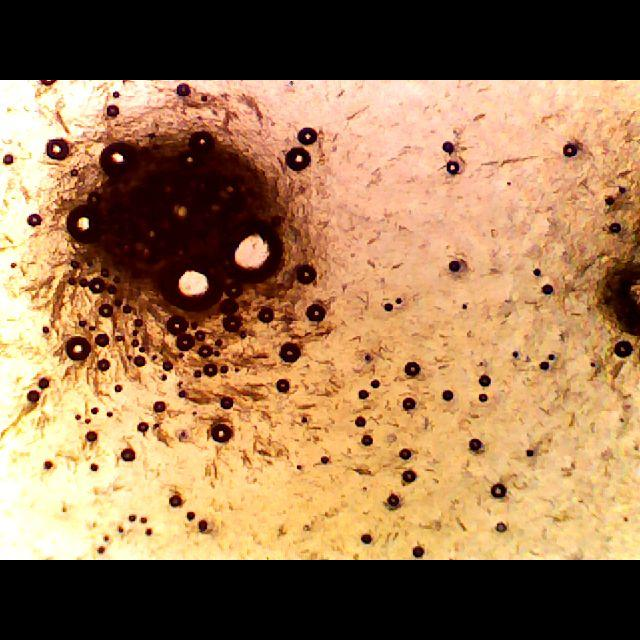microbeads: (12, 97, 348, 377)
